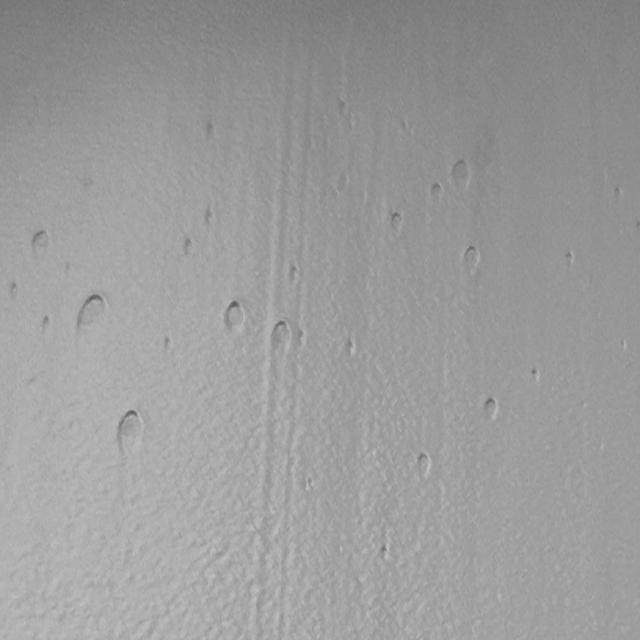pin holes: (72, 291, 115, 336), (114, 405, 146, 458), (221, 299, 246, 337), (451, 158, 474, 192), (30, 228, 56, 258), (460, 244, 482, 278), (270, 320, 292, 348), (414, 452, 434, 480), (480, 395, 500, 422), (388, 209, 408, 236), (424, 181, 444, 206), (377, 540, 395, 564), (562, 250, 580, 273), (609, 183, 627, 206), (285, 262, 302, 286), (344, 337, 361, 361), (202, 207, 218, 232), (528, 365, 546, 387), (40, 312, 55, 336), (182, 237, 198, 258), (9, 281, 23, 303), (335, 98, 350, 116), (297, 327, 306, 356), (303, 475, 317, 493), (162, 334, 175, 353), (205, 120, 214, 142), (619, 335, 630, 353), (631, 218, 639, 236)
